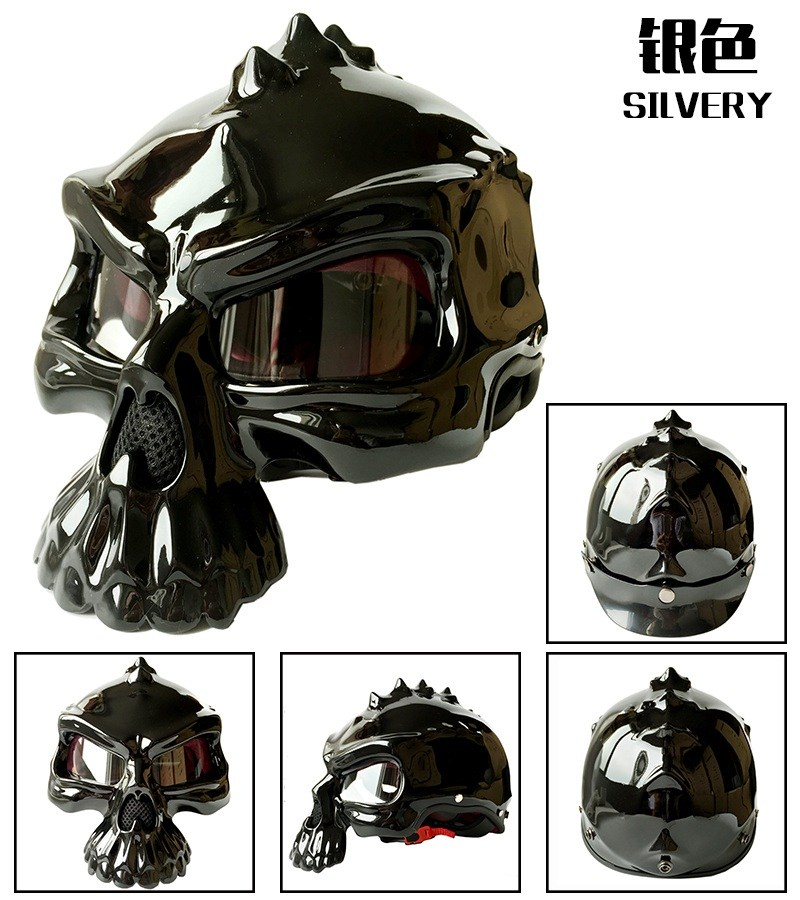with_helmet: (570, 405, 769, 639), (291, 671, 515, 877), (566, 665, 767, 888)
